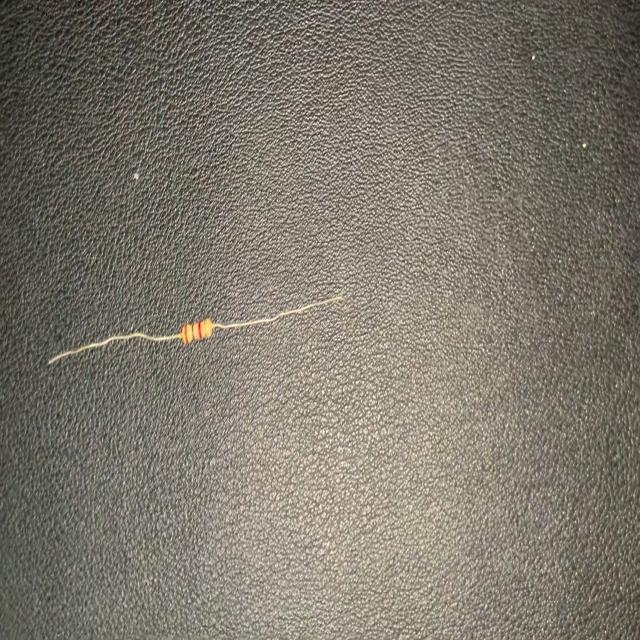resistor: (39, 285, 346, 372)
